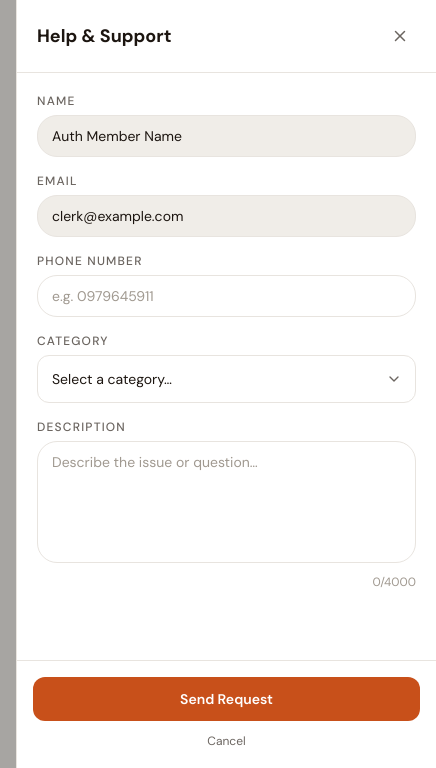
Test: SupportRequestDrawer › shows inline error when description is less than 5 characters
This screenshot has width=436, height=768.
Type "0979645911" into the field with placeholder "e.g. 0979645911" at (226,296), box [37,275,416,317]
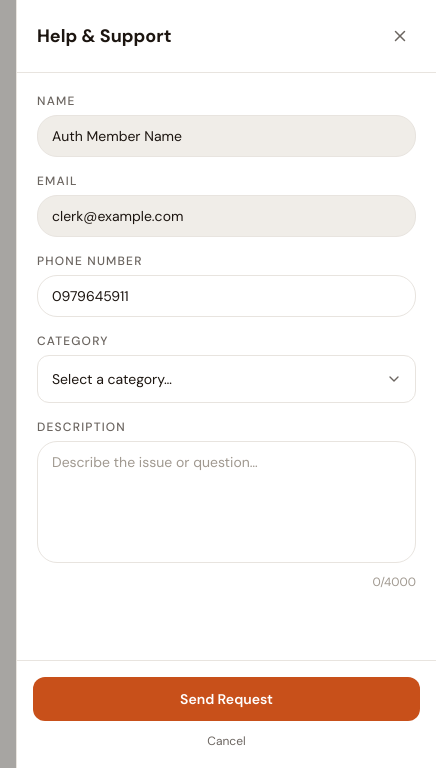
Select "Question" in the dropdown at (226,379), box [37,355,416,403]
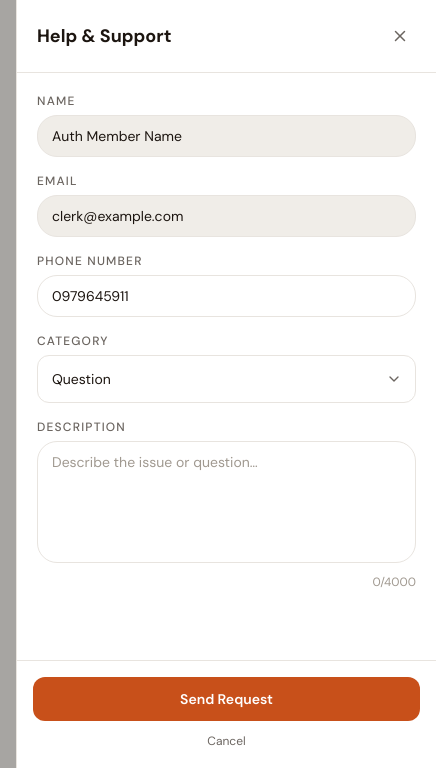
Type "Hi" into the text box with placeholder "Describe the issue or question…" at (226,502), box [37,441,416,563]
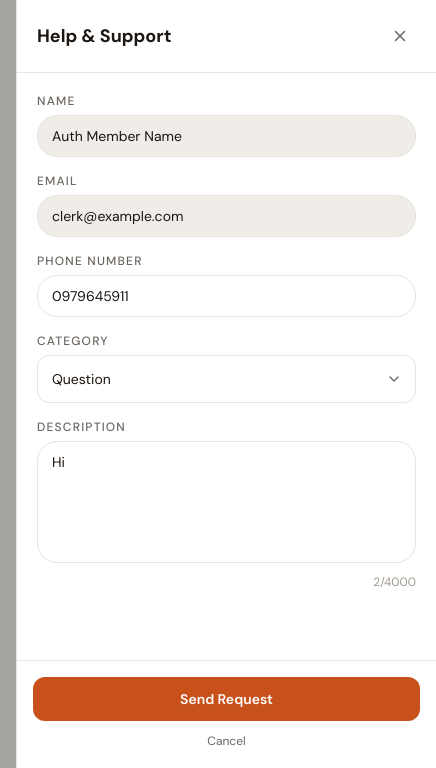
Submit the form with id "support-request-form", box [37,93,416,590]
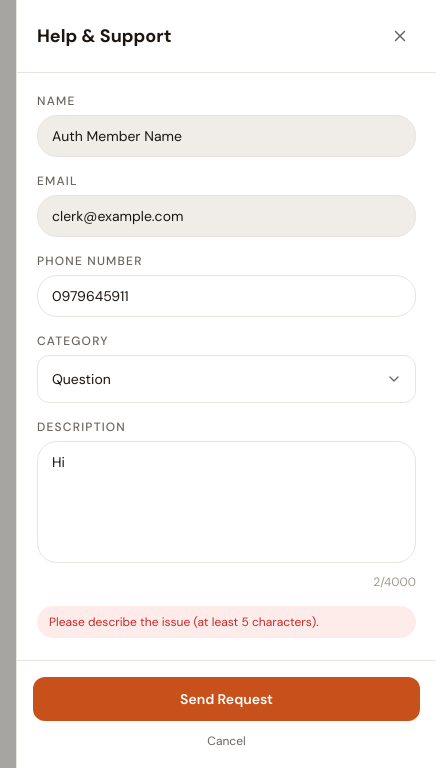
Expected: the text "Please describe the issue (at least 5 characters)." is shown, [37,606,416,638]
